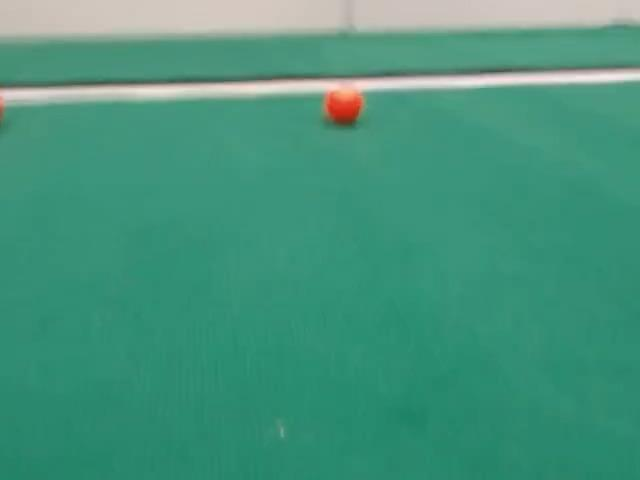Ball: (324, 86, 363, 124), (0, 94, 2, 118)
